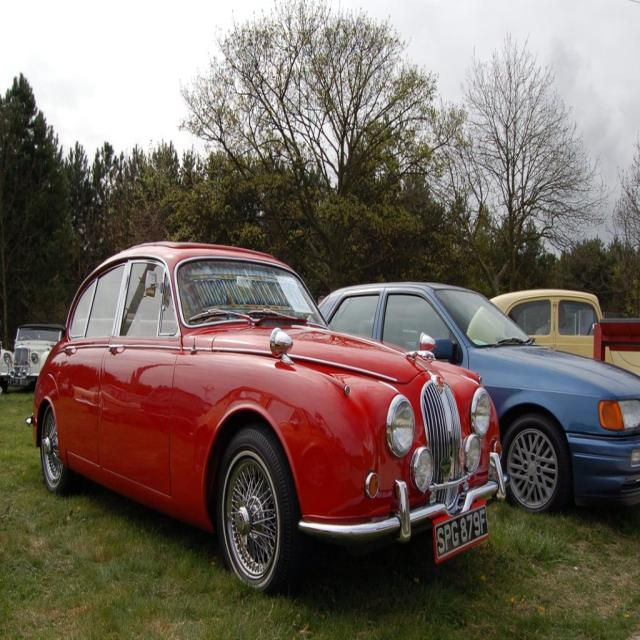car: (26, 254, 465, 562)
